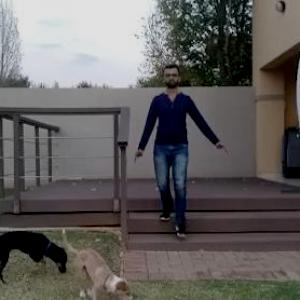land: (133, 72, 217, 230)
